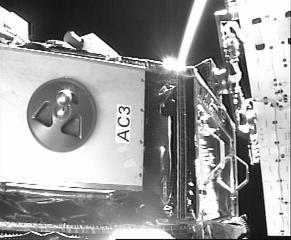antenna: (26, 77, 99, 154)
body: (0, 39, 240, 240)
solar: (213, 0, 291, 237)
